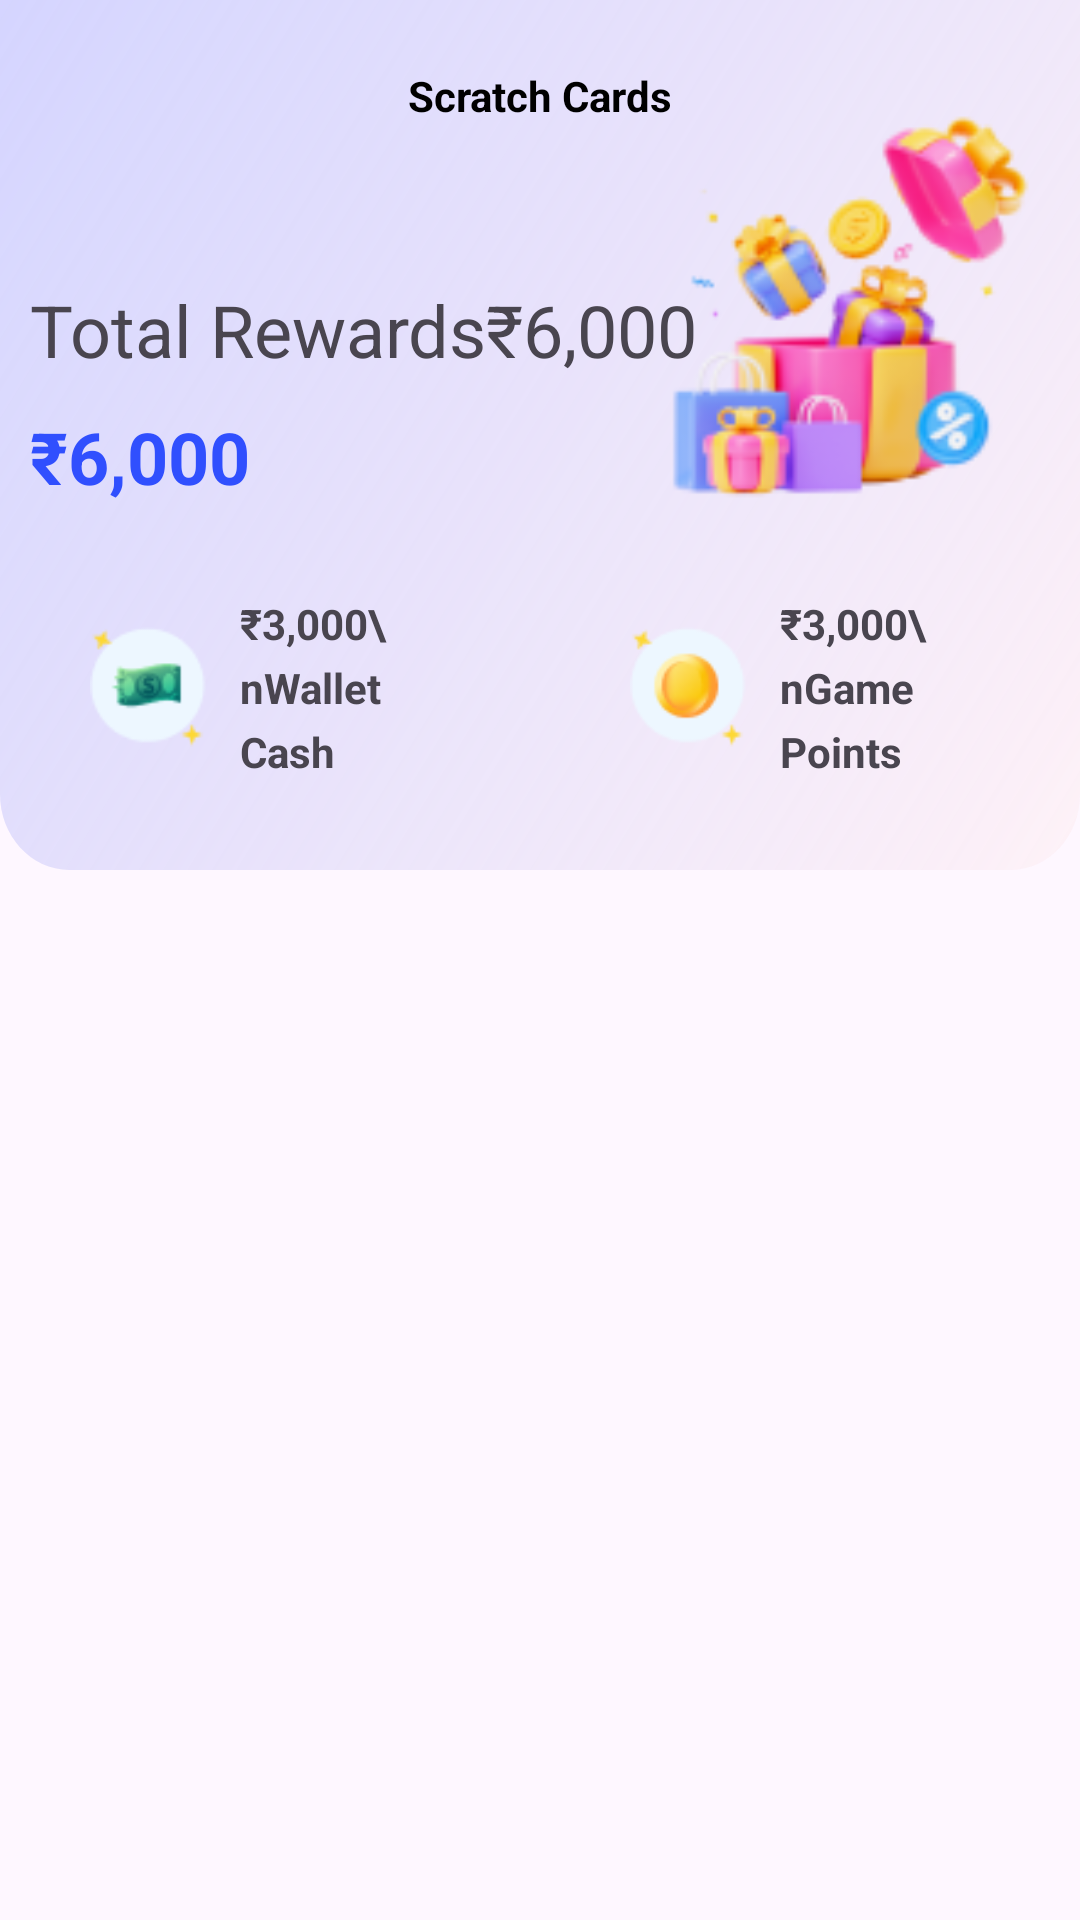

Named icons in this screenshot (1080px×1920px) and their centers, [x,y]:
cash blink: [148,688]
coin blink: [687,688]
